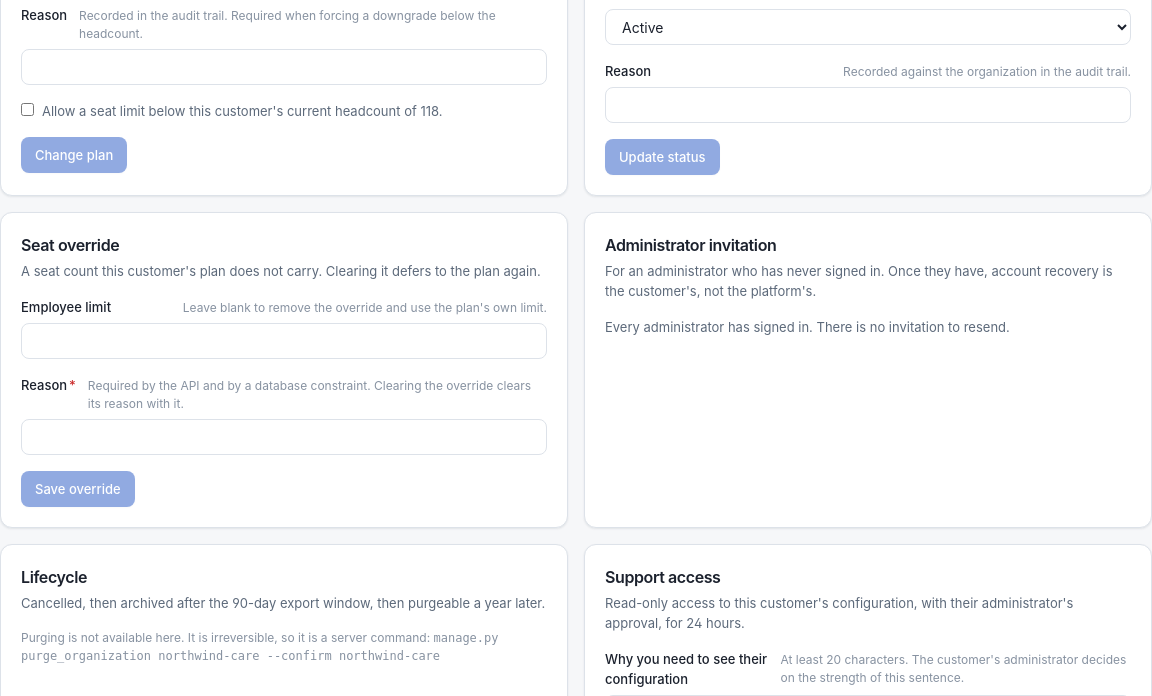
Scenario: changing what a customer is on › requires a reason before a seat override can be saved
This screenshot has width=1152, height=696.
(page scrolled)
Check: the button "Save override" is disabled, box [21,471,135,507]
Type "400" into the field labelled "Employee limit" at (284, 341), box [21,323,547,359]
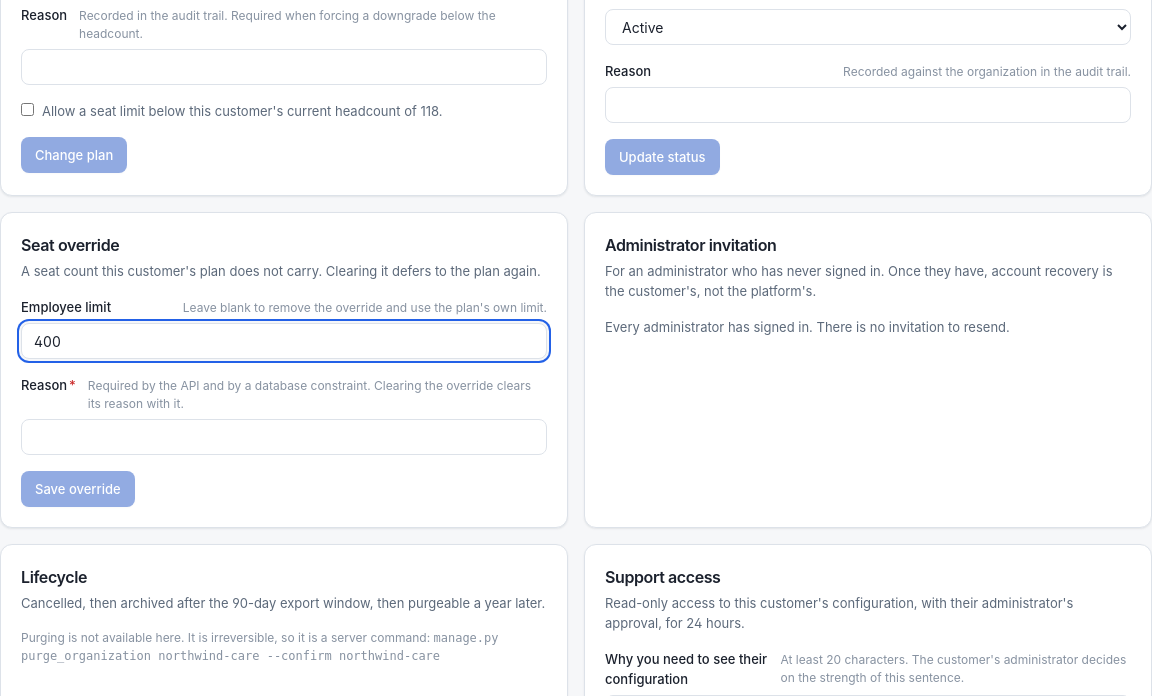
Type "Agreed overage, contract 2026-11" into the field labelled "Reason*" at (284, 437), box [21,419,547,455]
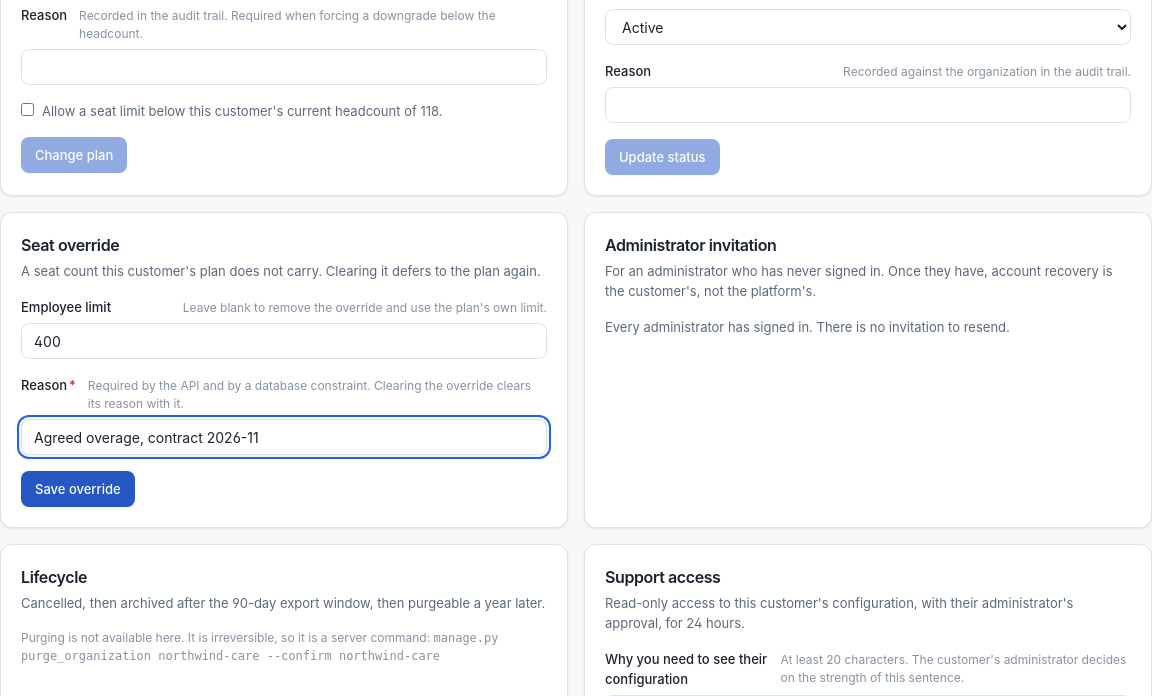
Check: the button "Save override" is enabled, box [21,471,135,507]
